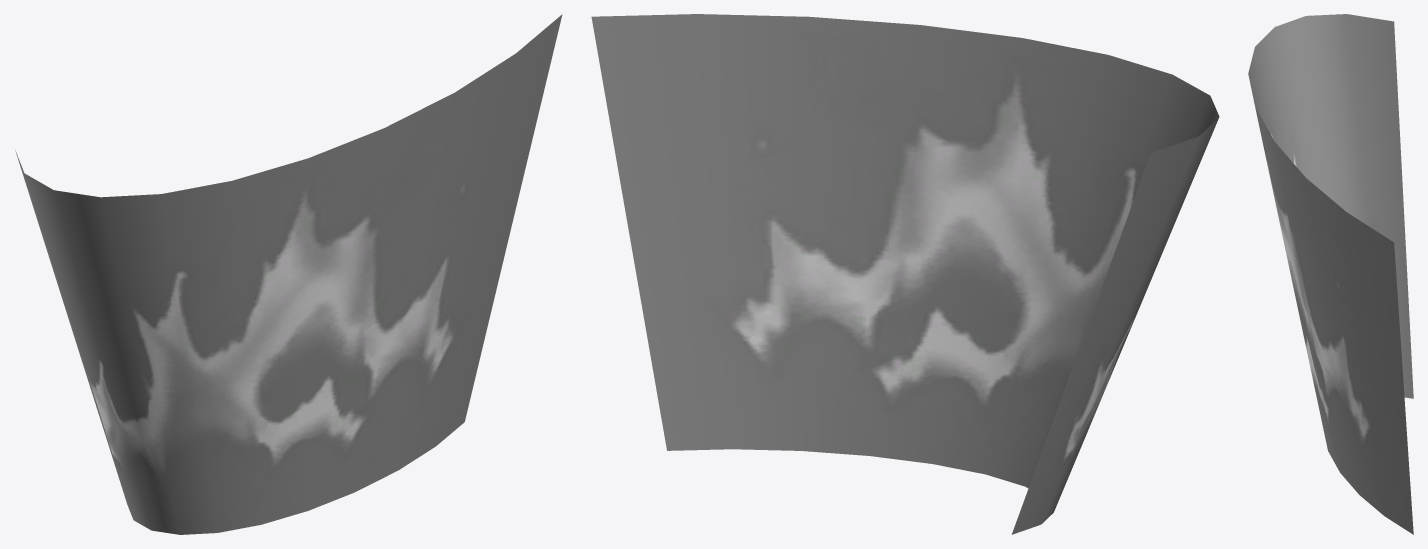
Rendered from banzhui.FBX.
3 views of the same model, side by side, from view 1: azimuth 30°, elevation 25°; view 2: azimuth 150°, elevation 25°; view 3: azimuth 270°, elevation 25° (orthographic). The views are drawn at different scales.
Visible parts, largest first — view 1: Cone001; view 2: Cone001; view 3: Cone001.
Part boxes in pixels (left/top/right/bottom): Cone001: left=15, top=14, right=562, bottom=534; Cone001: left=591, top=14, right=1219, bottom=534; Cone001: left=1248, top=14, right=1413, bottom=534.
Size of the model in its own units: 311 by 207 by 95.13.
Materials: 1 (1 with a texture image).
